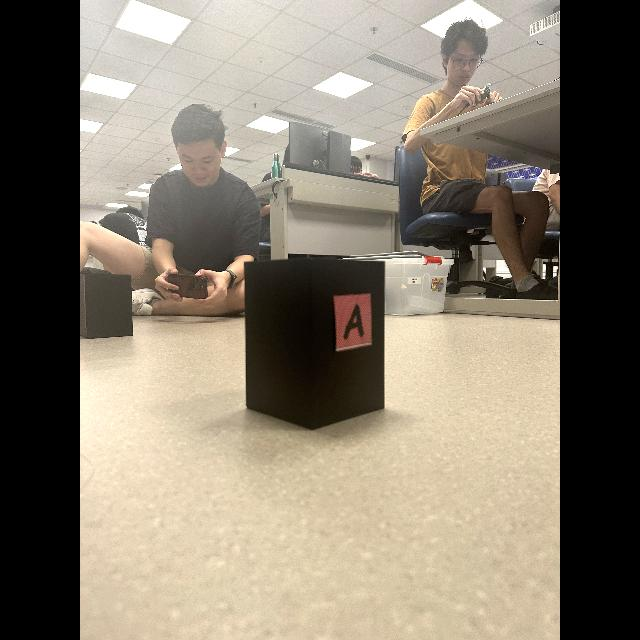A: (344, 304, 364, 339)
